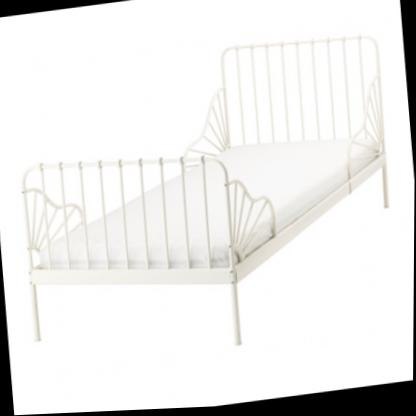Bed: (4, 27, 405, 376)
